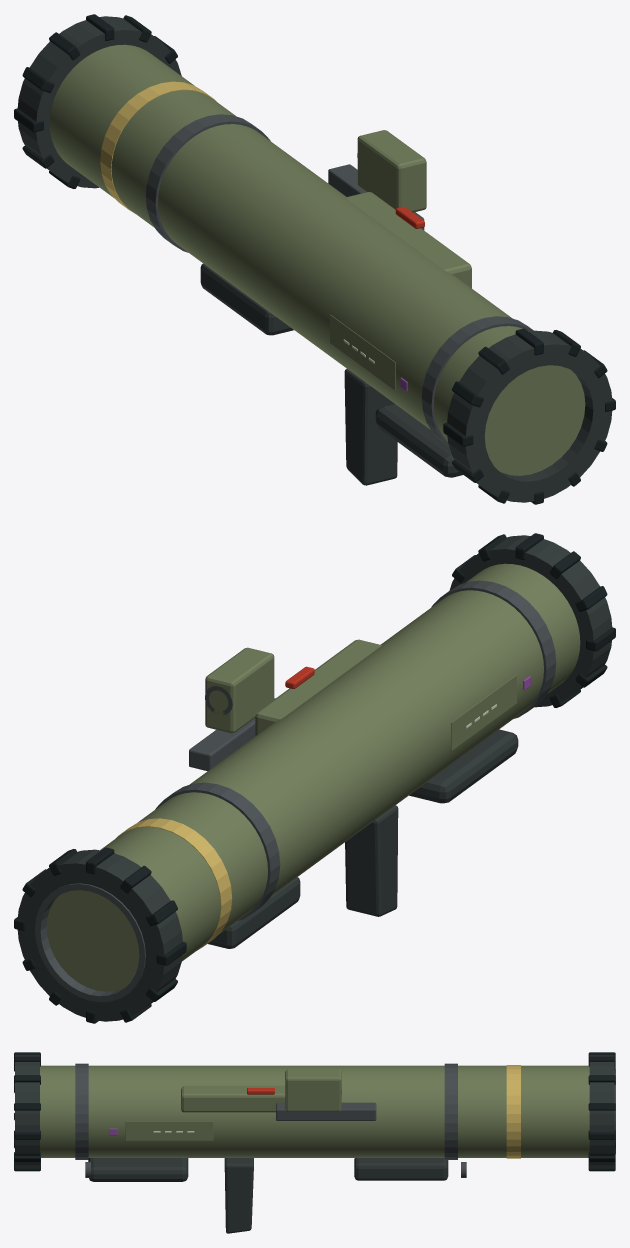
File: rocket_3.glb
3 renders of one model, top to bottom at view 1: azimuth 30°, elevation 25°; view 2: azimuth 150°, elevation 25°; view 3: azimuth 270°, elevation 25°, orthographic. The views are drawn at different scales.
Parts seen in each view (by area): view 1: Weapon_rocket_realism_v2; view 2: Weapon_rocket_realism_v2; view 3: Weapon_rocket_realism_v2.
Part boxes in pixels (x1,y1,x2,y2): Weapon_rocket_realism_v2: [14, 14, 615, 504]; Weapon_rocket_realism_v2: [14, 533, 615, 1023]; Weapon_rocket_realism_v2: [14, 1052, 615, 1233].
Bounding box in the file's own units: 0.2075 × 0.3179 × 0.9615.
